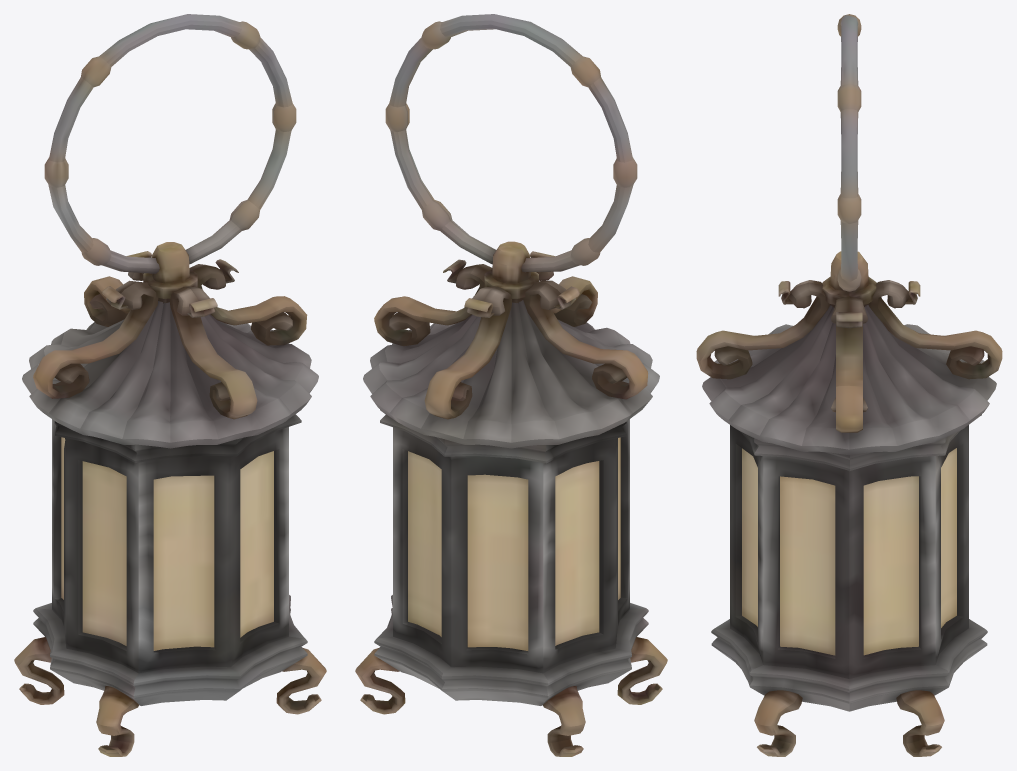
Rendered from lantern_old.glb.
3 renders of one model, left to right at view 1: azimuth 30°, elevation 25°; view 2: azimuth 150°, elevation 25°; view 3: azimuth 270°, elevation 25°, orthographic.
Parts seen in each view (by area): view 1: defaultMaterial; view 2: defaultMaterial; view 3: defaultMaterial.
Boxes of the visible parts, x1,y1,x2,y2 form: defaultMaterial: [14, 14, 326, 756]; defaultMaterial: [355, 14, 667, 756]; defaultMaterial: [696, 14, 1002, 756].
Bounding box in the file's own units: 44.76 × 110 × 44.76.
Materials: 1 (1 with a texture image).
